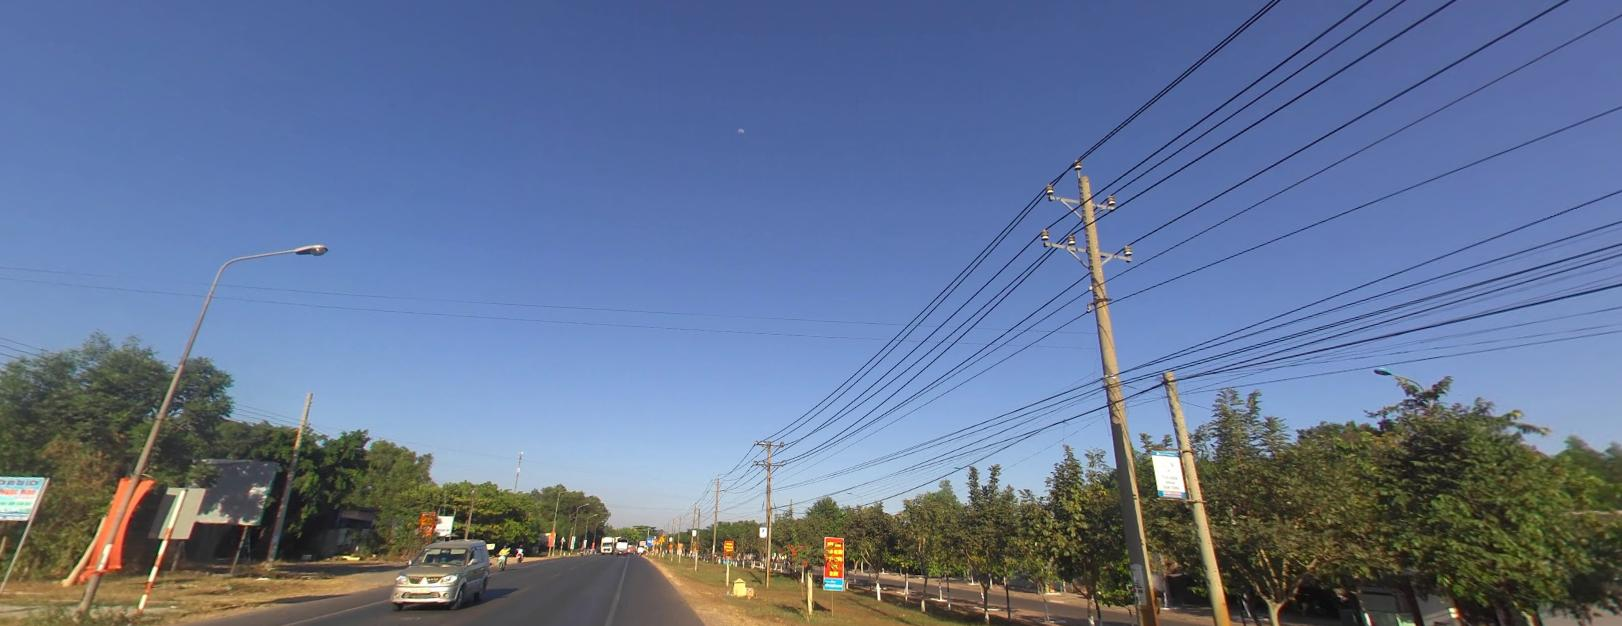Nguy hiem: (658, 534, 666, 541), (652, 538, 657, 544)
